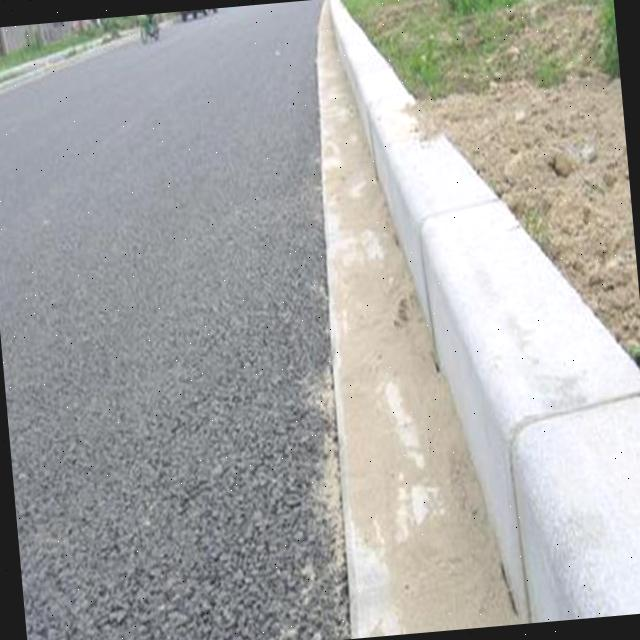curb: (329, 0, 640, 622), (0, 38, 104, 87)
